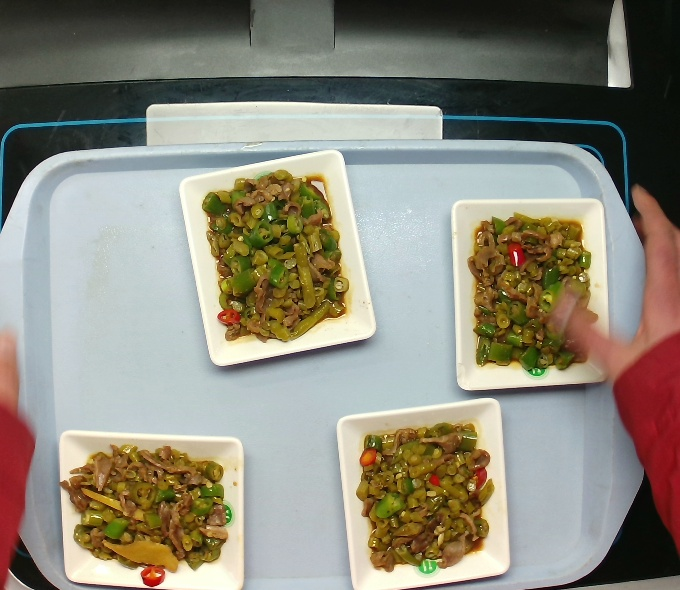wcq-SuanDouJiaoChaoJiZhen: (198, 174, 356, 341), (460, 218, 606, 375), (347, 420, 493, 577), (67, 442, 230, 579)
